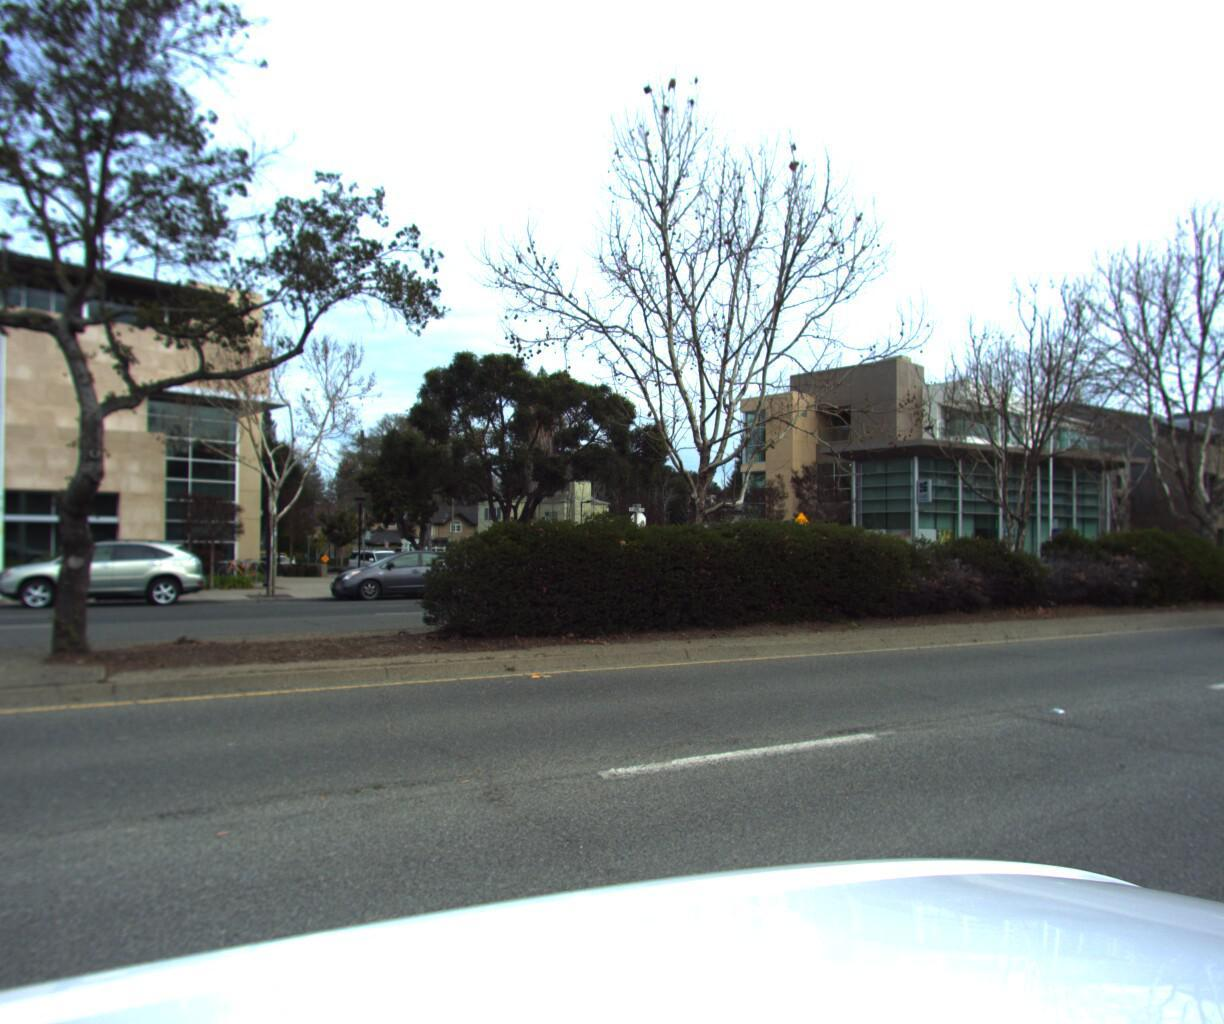car: (0, 537, 210, 613), (321, 546, 485, 604)
